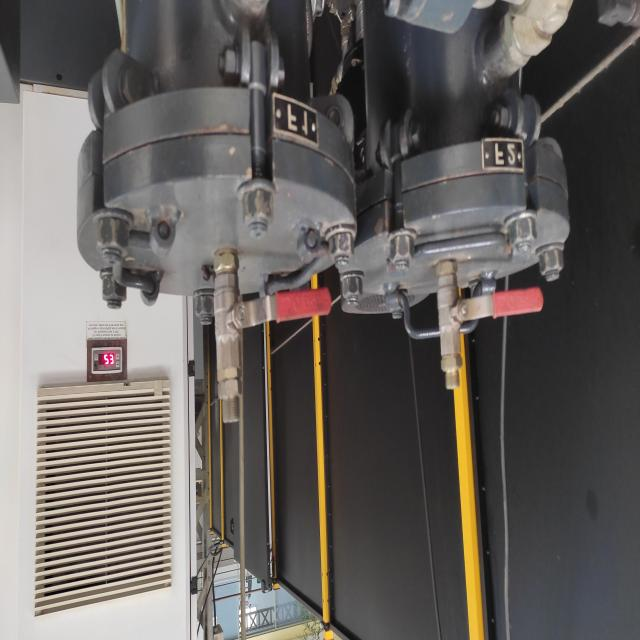closed_valve: (213, 284, 334, 380), (435, 272, 544, 361)
